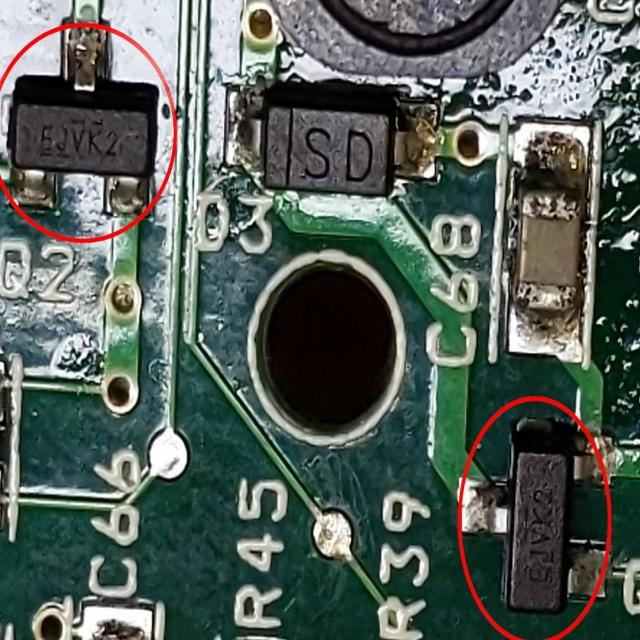4439: (11, 27, 159, 228), (469, 418, 596, 619)
capacitor 1V5: (508, 172, 584, 334)
diode -D1-: (246, 96, 406, 197)
